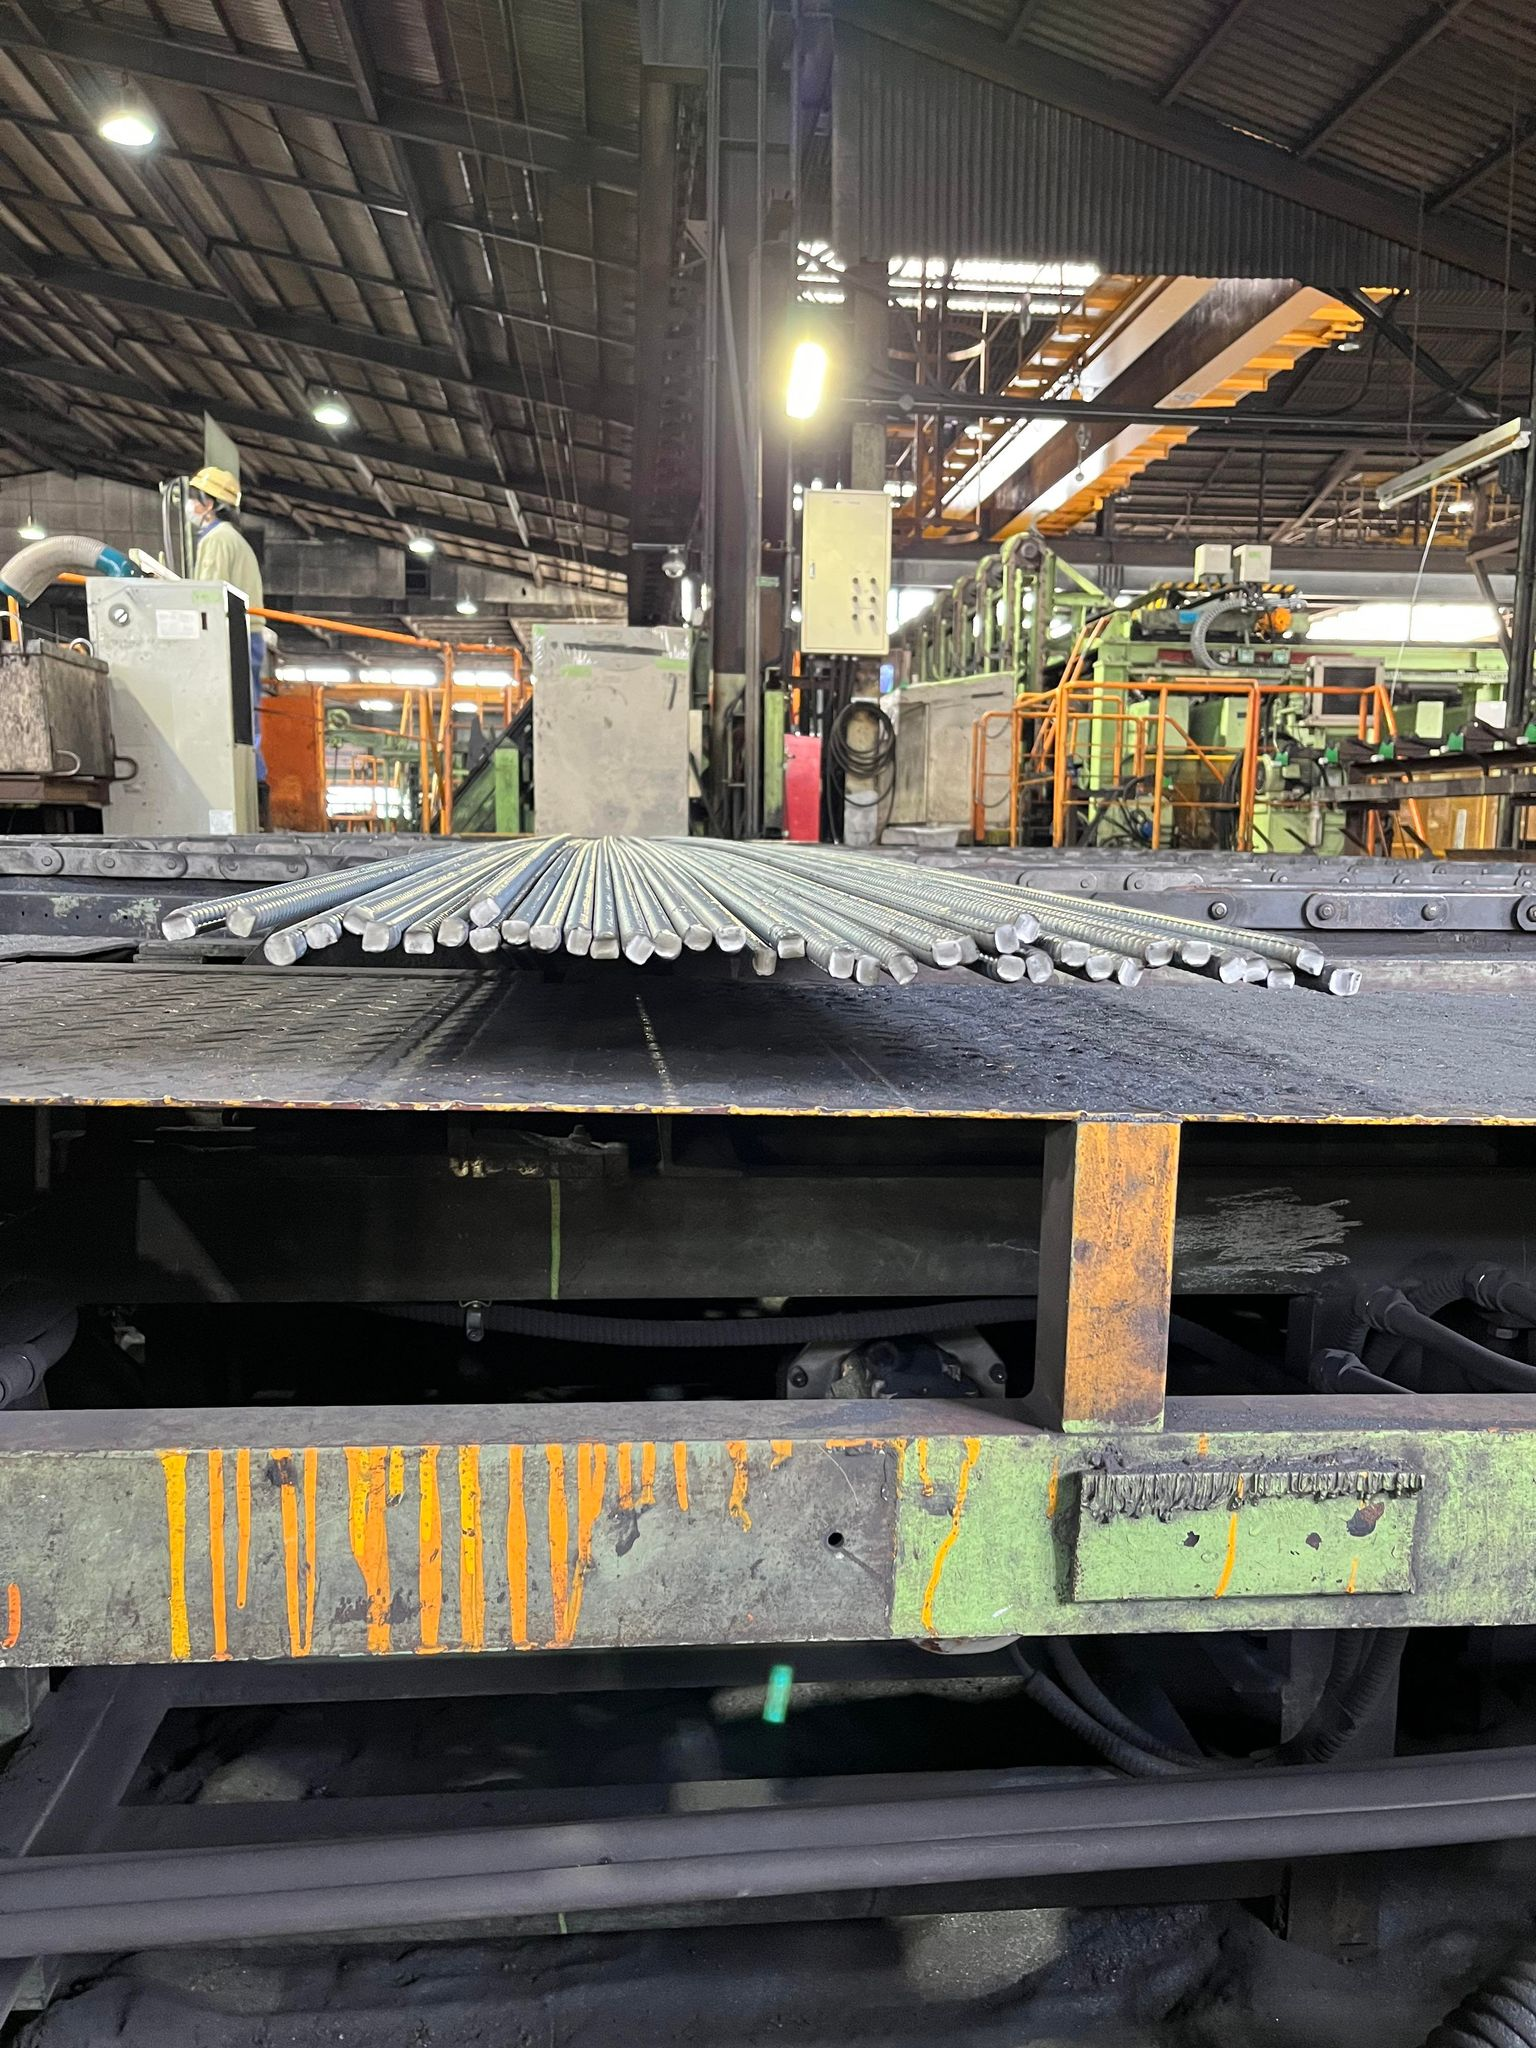rod: (261, 930, 300, 966), (160, 908, 195, 943), (340, 901, 378, 935), (224, 905, 260, 939), (434, 914, 470, 948), (1292, 942, 1326, 977), (303, 919, 340, 951), (1326, 966, 1363, 998), (360, 919, 394, 953), (468, 895, 503, 927), (826, 943, 857, 980), (887, 948, 918, 984), (402, 926, 436, 956), (854, 955, 884, 989), (1028, 948, 1055, 985), (623, 934, 653, 966), (470, 926, 503, 955), (529, 924, 563, 953), (929, 939, 963, 968), (1013, 910, 1042, 943), (716, 922, 747, 953), (500, 918, 532, 947), (682, 922, 715, 951), (774, 930, 807, 959), (992, 922, 1021, 955), (1058, 939, 1091, 968), (1117, 955, 1146, 987), (1179, 939, 1212, 968), (1217, 955, 1249, 984), (750, 943, 778, 977), (992, 955, 1026, 982), (563, 926, 592, 956), (653, 929, 682, 959), (1084, 951, 1115, 980), (587, 934, 620, 961), (1144, 939, 1176, 966), (1244, 953, 1270, 984), (1267, 964, 1297, 990), (958, 930, 979, 964)
